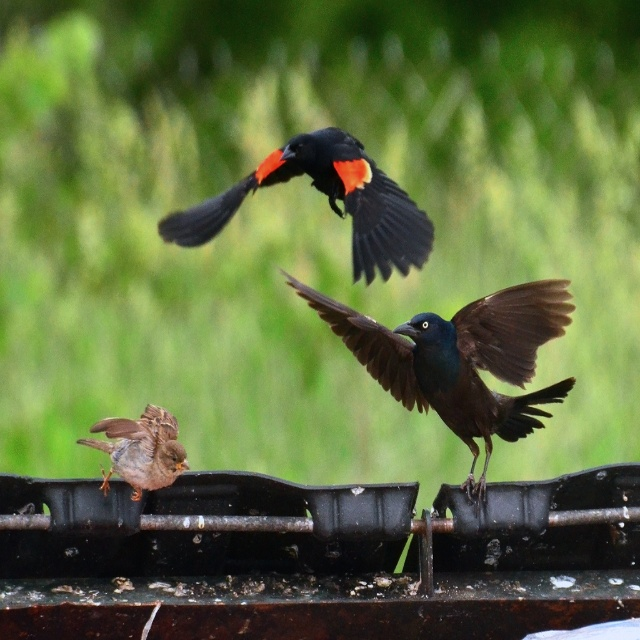Sparrow: (74, 405, 189, 506)
